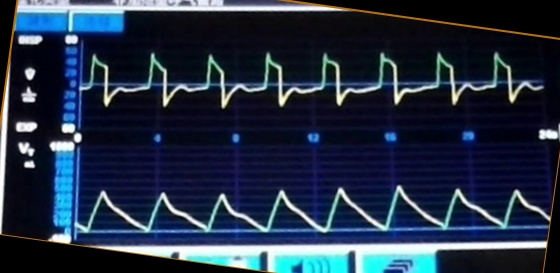Premature_cycling Flow: (85, 48, 544, 122)
Premature_cycling Volume: (79, 178, 547, 235)
